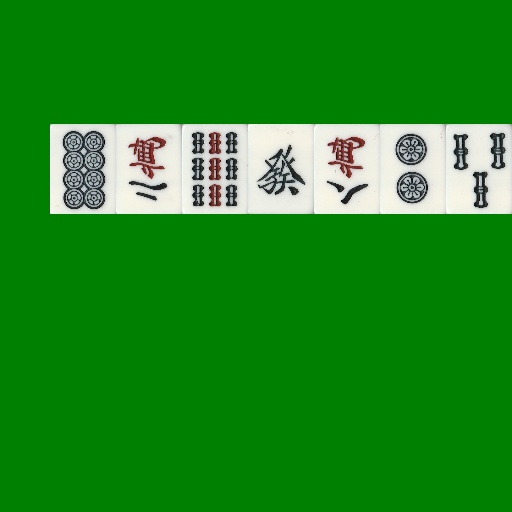2m: (116, 124, 182, 214)
2p: (380, 124, 446, 214)
3s: (446, 124, 512, 214)
8m: (314, 124, 380, 214)
8p: (50, 124, 116, 214)
9s: (182, 124, 248, 214)
hatsu: (248, 124, 314, 214)
